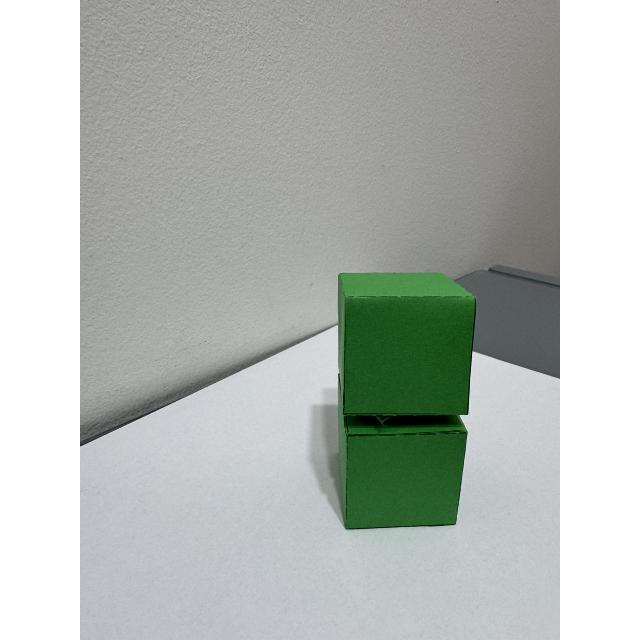green_cube: (332, 252, 488, 546)
